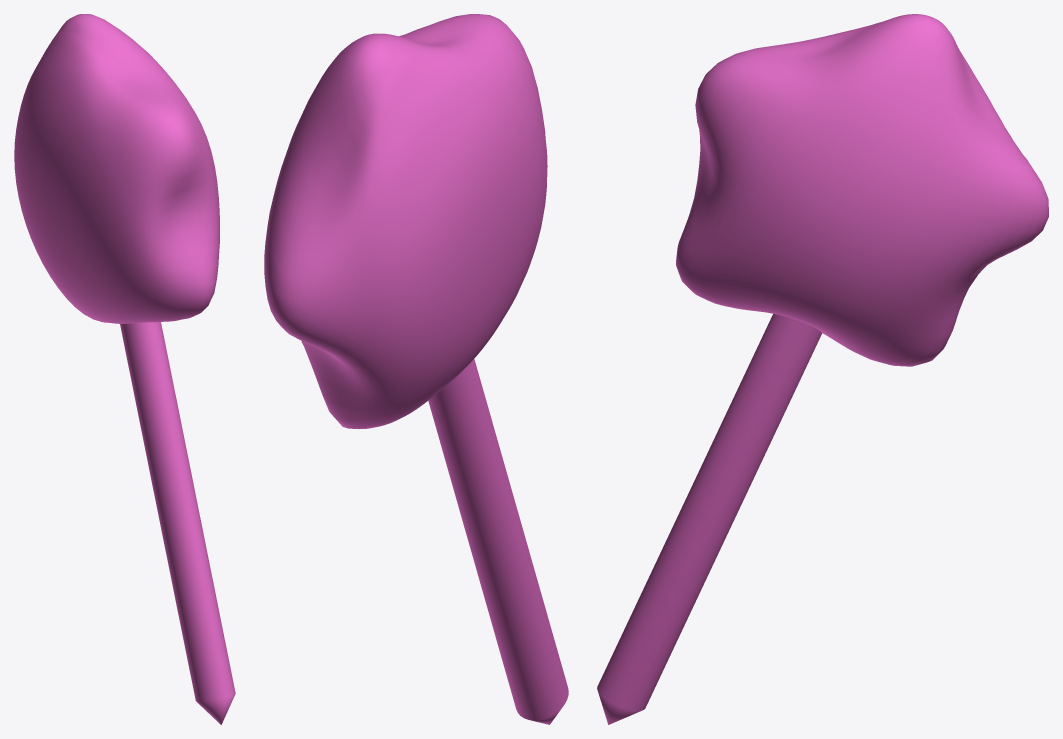
File: wand.fbx
3 views of the same model, side by side, from view 1: azimuth 30°, elevation 25°; view 2: azimuth 150°, elevation 25°; view 3: azimuth 270°, elevation 25° (orthographic). The views are drawn at different scales.
Visible parts, largest first — view 1: StarTop, Handle; view 2: StarTop, Handle; view 3: StarTop, Handle.
Part boxes in pixels (x1=…): StarTop: x1=14, y1=14, x2=219, y2=323; Handle: x1=120, y1=322, x2=235, y2=724; StarTop: x1=264, y1=14, x2=547, y2=429; Handle: x1=428, y1=359, x2=568, y2=724; StarTop: x1=676, y1=14, x2=1048, y2=366; Handle: x1=597, y1=314, x2=822, y2=724.
Bounding box in the file's own units: 51.35 × 213 × 123.
